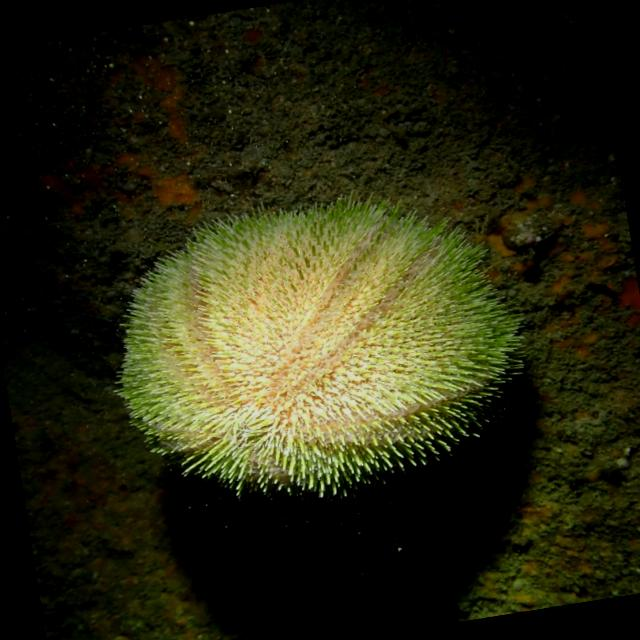Deniz Kestanesi: (86, 162, 550, 530)
